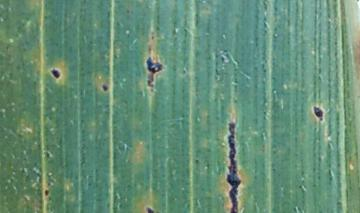tarspot: (227, 122, 244, 213), (146, 55, 164, 91), (50, 66, 62, 80), (313, 105, 324, 120), (43, 187, 50, 197), (102, 84, 109, 91), (147, 207, 155, 213)
